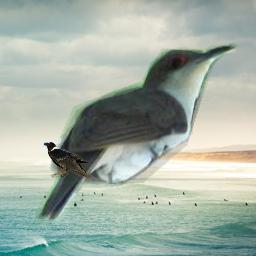Crow: (43, 141, 90, 178)
Cuckoo: (35, 43, 240, 226)
